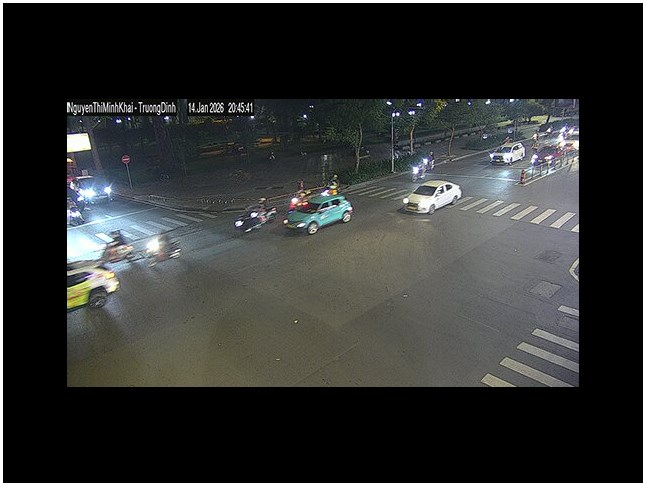car: (284, 195, 353, 235), (67, 266, 120, 311), (401, 180, 462, 215), (233, 204, 277, 235), (71, 175, 115, 203), (490, 142, 527, 165)
